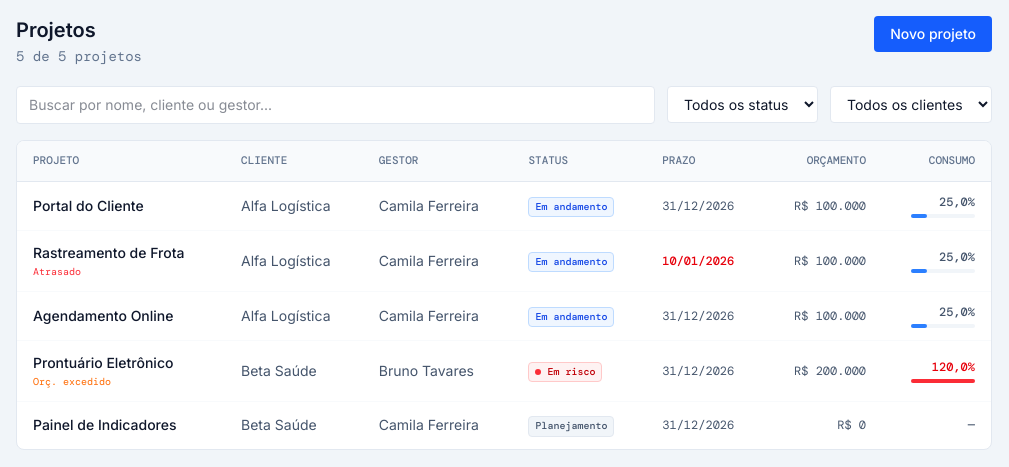
Scenario: ProjectsPage (RF04) › filtra por status
Expected: the link "Portal do Cliente" is shown, [33, 197, 144, 214]
Select "Em risco" in the 1st dropdown named "Filtrar por status" at (742, 104), box [667, 86, 818, 123]
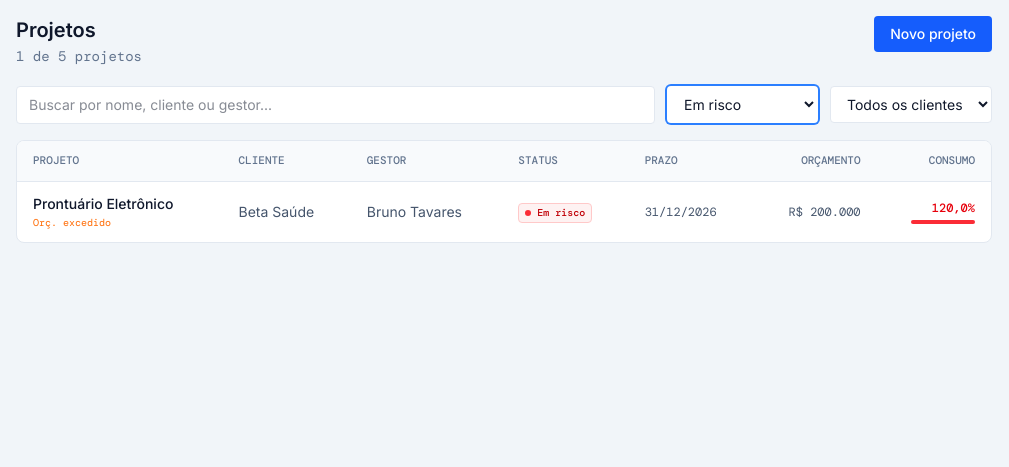
Expected: the link "Prontuário Eletrônico" is shown, [33, 195, 173, 212]
Now the text "1 de 5 projetos" is shown, box [16, 46, 142, 66]
